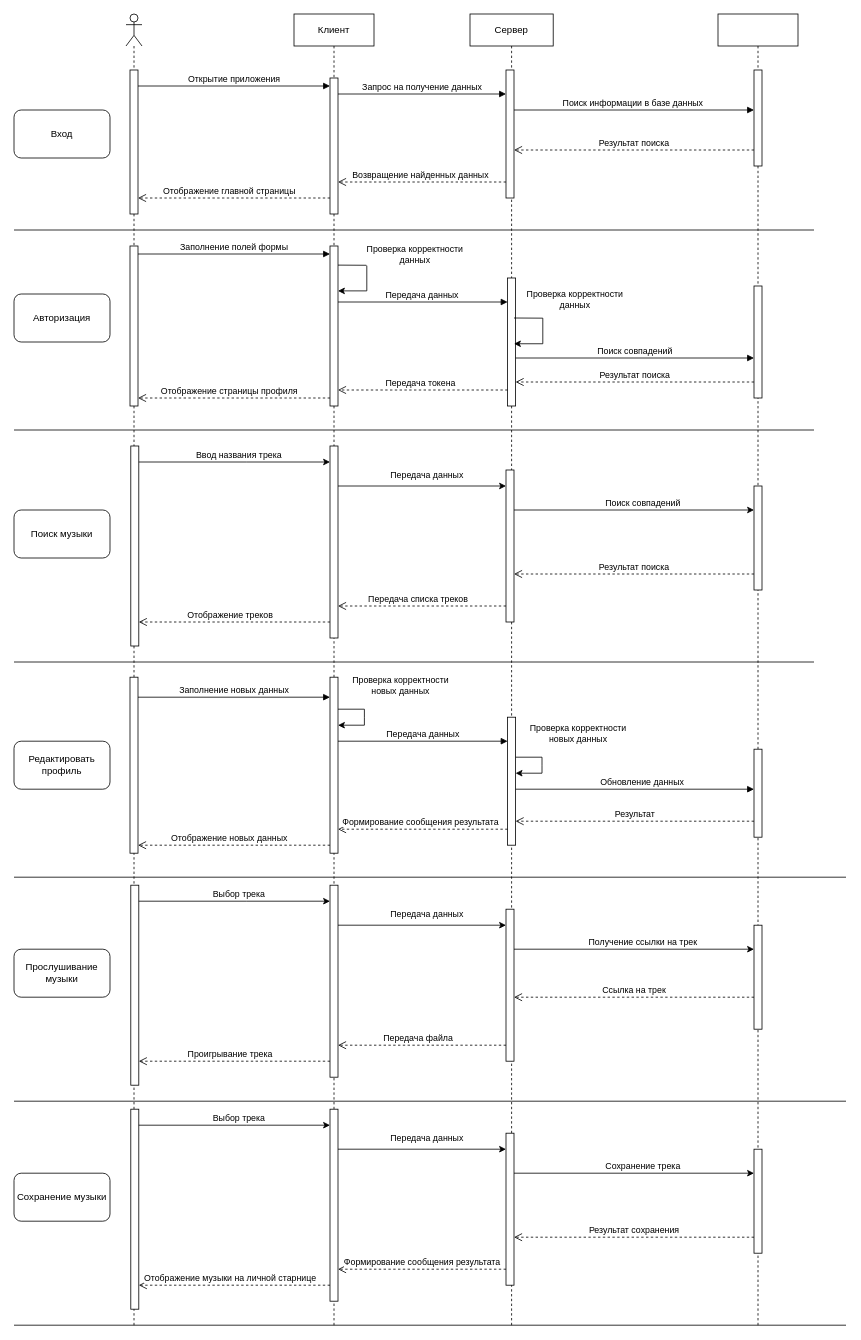
This 861x1340 diagram has some shape labels left out. The shapes that lost their labels are listed below. From the top down, each one's box as (x1, y1, x2, y2) in pixels, then its label:
(125, 13, 142, 1326): Авторизованный пользователь
(717, 13, 798, 1326): База данных
